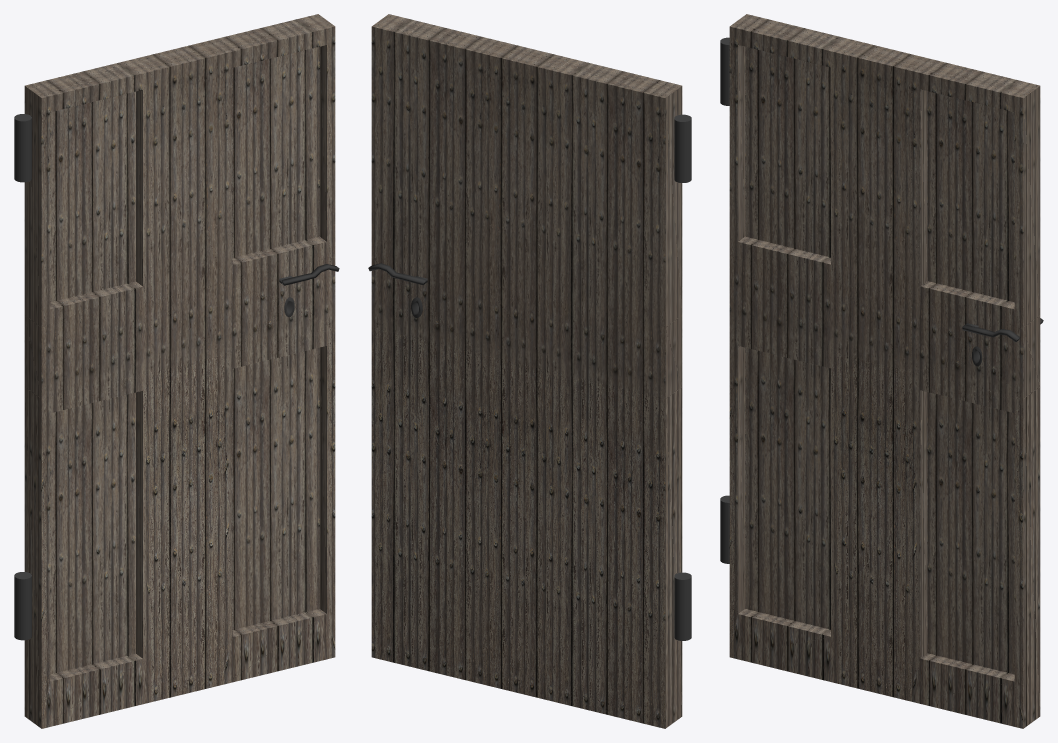
Rendered from Tür .fbx.
3 views of the same model, side by side, from view 1: azimuth 30°, elevation 25°; view 2: azimuth 150°, elevation 25°; view 3: azimuth 330°, elevation 25° (orthographic).
Visible parts, largest first — view 1: Cube.001, Cylinder.001; view 2: Cube.001, Cylinder.001; view 3: Cube.001, Cylinder.001.
Part boxes in pixels (x1,y1,x2,y2): Cube.001: (24, 14, 335, 728); Cylinder.001: (14, 114, 31, 640); Cube.001: (371, 14, 682, 728); Cylinder.001: (674, 114, 691, 640); Cube.001: (729, 14, 1040, 728); Cylinder.001: (720, 37, 729, 563).
Size of the model in its own units: 216 by 419 by 31.86.
